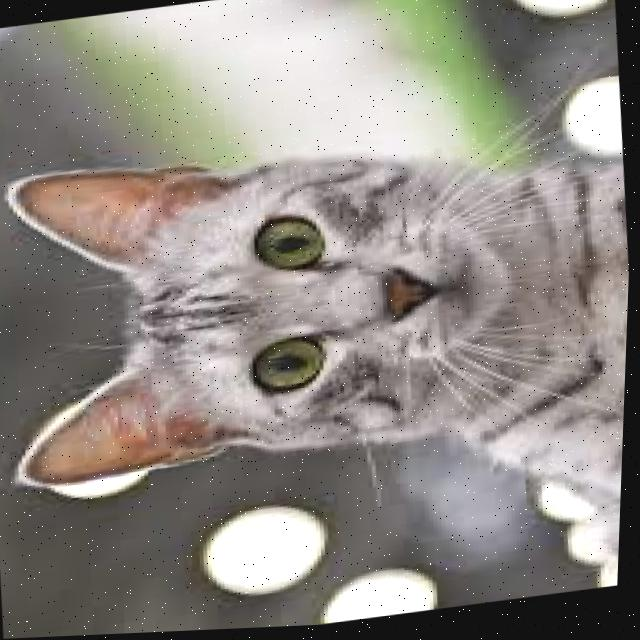Egyptian Mau: (0, 97, 637, 640)
